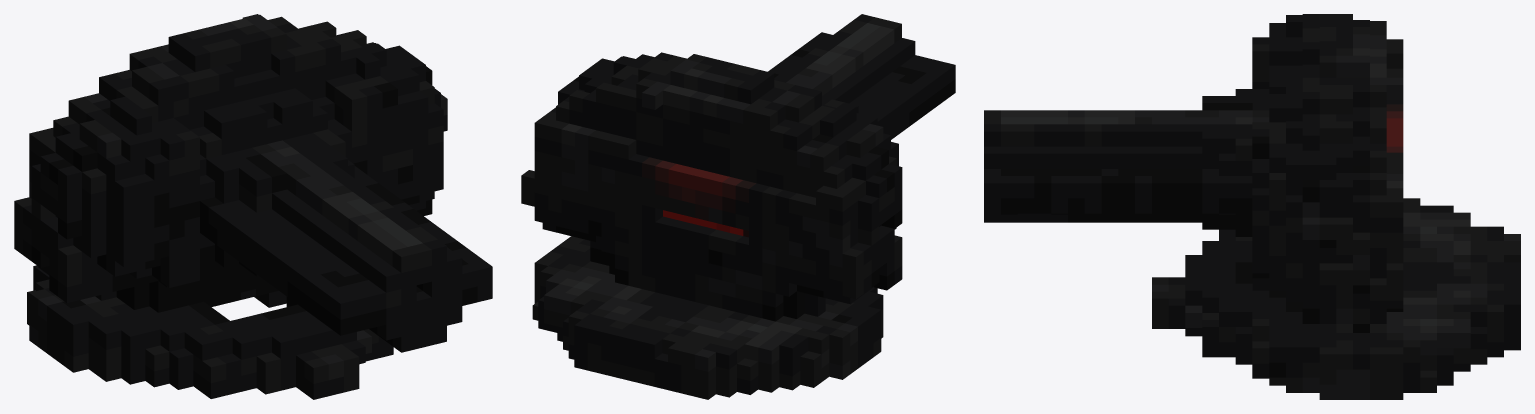
File: grinder_mk1.glb
3 views of the same model, side by side, from view 1: azimuth 30°, elevation 25°; view 2: azimuth 150°, elevation 25°; view 3: azimuth 270°, elevation 25° (orthographic). The views are drawn at different scales.
Visible parts, largest first — view 1: model; view 2: model; view 3: model.
Boxes of the visible parts, bbox=[...] form: model: bbox=[14, 14, 492, 399]; model: bbox=[521, 14, 955, 399]; model: bbox=[984, 14, 1520, 399].
Size of the model in its own units: 0.8 by 0.576 by 1.02.
Materials: 1 (1 with a texture image).
